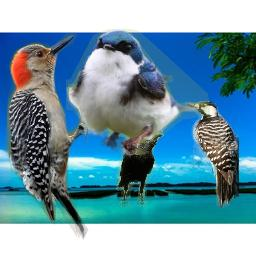Crow: (116, 127, 164, 207)
Swallow: (66, 29, 210, 155)
Woodpecker: (0, 30, 92, 250), (185, 101, 239, 209)
